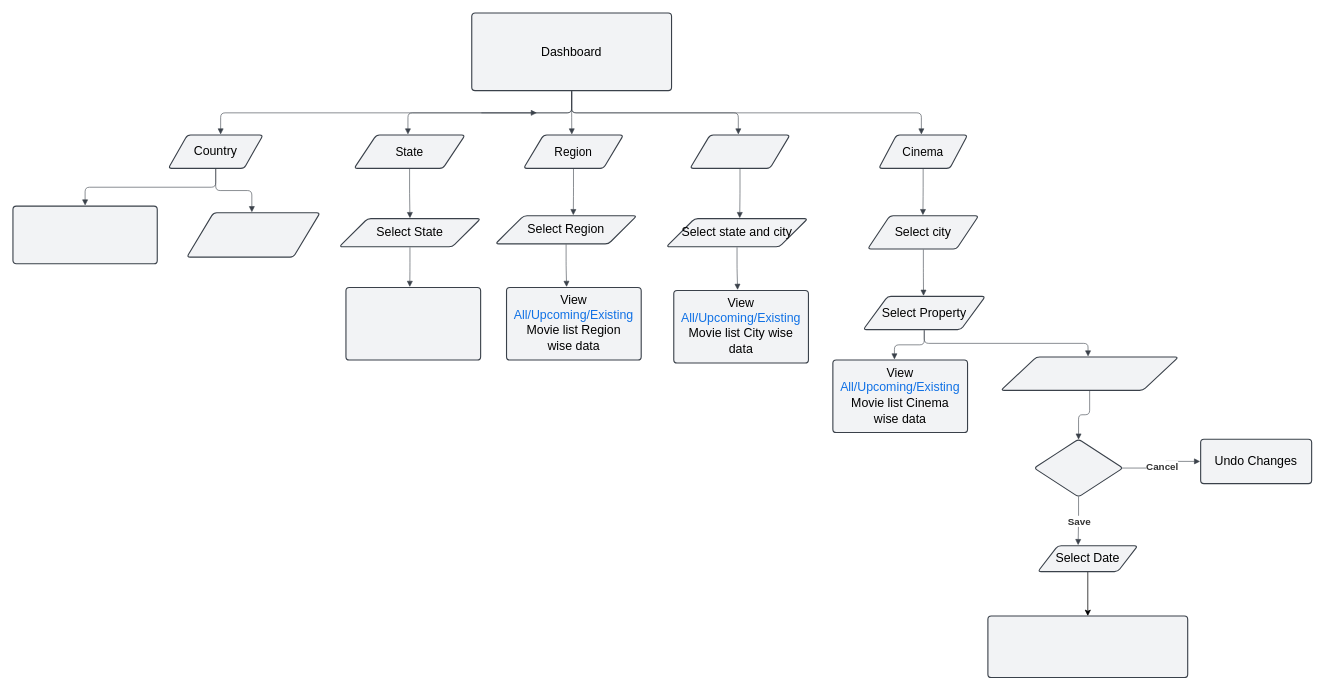
Some shapes in this 1325 by 691 pixel diagram are drawn without their labels. Here are the shapes that lost their labels. From the top down, the centre of each, then its label:
[739,151]: City
[84,234]: View Movie All/Upcoming/Existing list
[253,234]: Select The Rank Of Movie
[413,323]: View All/Upcoming/Existing Movie list State wise data
[1089,373]: Select/Unselect The Movie
[1078,467]: Save/Cancel
[1087,646]: View Movies 1. Current Movie 2. Upcomming Movie
